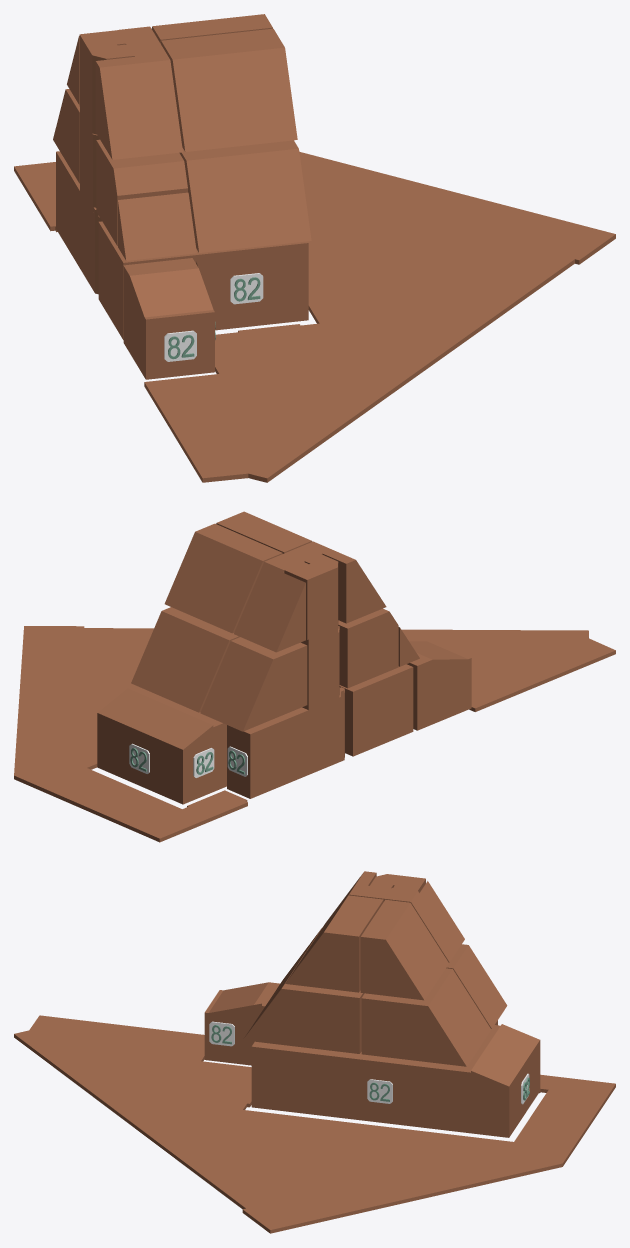
3 views of the same model, one above another, from view 1: azimuth 30°, elevation 25°; view 2: azimuth 150°, elevation 25°; view 3: azimuth 270°, elevation 25° (orthographic). The views are drawn at different scales.
Parts seen in each view (by area): view 1: g_19, g_17, g_12, g_7, g_1, g_14, g_0, g_16, g_6, g_15, g_18, g_5 (+6 smaller); view 2: g_19, g_2, g_17, g_18, g_14, g_11, g_13, g_8, g_5, g_1, g_0, g_6 (+5 smaller); view 3: g_19, g_17, g_2, g_8, g_18, g_13, g_7, g_1, g_12, g_0, g_14, g_11 (+1 smaller).
Part boxes in pixels (<box>): g_19: <box>301,164,615,323</box>; g_17: <box>144,302,513,482</box>; g_12: <box>161,28,297,151</box>; g_7: <box>179,140,311,252</box>; g_1: <box>98,221,308,339</box>; g_14: <box>67,26,182,159</box>; g_0: <box>123,258,214,379</box>; g_16: <box>118,192,196,260</box>; g_6: <box>96,139,187,245</box>; g_15: <box>79,30,134,127</box>; g_18: <box>14,151,346,232</box>; g_5: <box>56,151,79,266</box>; g_19: <box>16,626,153,769</box>; g_2: <box>97,686,226,804</box>; g_17: <box>402,629,615,711</box>; g_18: <box>14,738,247,842</box>; g_14: <box>234,541,386,652</box>; g_11: <box>200,637,307,731</box>; g_13: <box>164,523,282,633</box>; g_8: <box>131,607,239,712</box>; g_5: <box>227,708,306,798</box>; g_1: <box>339,664,413,756</box>; g_0: <box>407,640,471,730</box>; g_6: <box>338,608,398,688</box>; g_19: <box>200,1110,513,1233</box>; g_17: <box>14,1015,251,1176</box>; g_2: <box>328,1024,540,1137</box>; g_8: <box>361,968,491,1066</box>; g_18: <box>488,1074,615,1183</box>; g_13: <box>360,899,448,1000</box>; g_7: <box>243,952,364,1053</box>; g_1: <box>251,1041,331,1116</box>; g_12: <box>285,895,383,992</box>; g_0: <box>204,982,279,1065</box>; g_14: <box>311,871,464,962</box>; g_11: <box>446,944,507,1028</box>.
Size of the model in its own units: 19.51 by 7.94 by 23.11.
